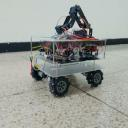cart: (30, 36, 107, 98)
